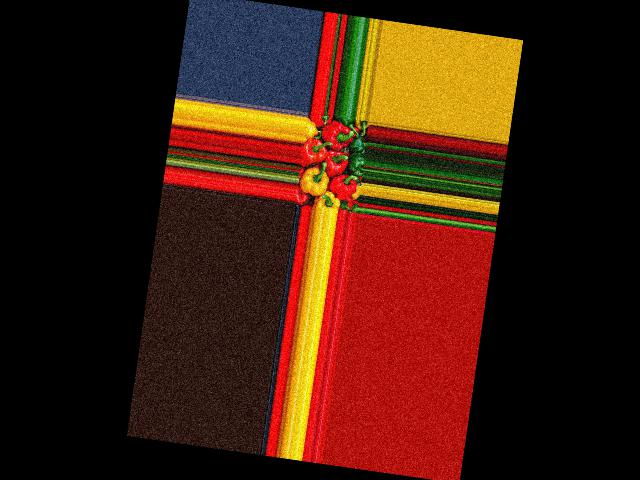bell_pepper: (303, 120, 318, 138)
